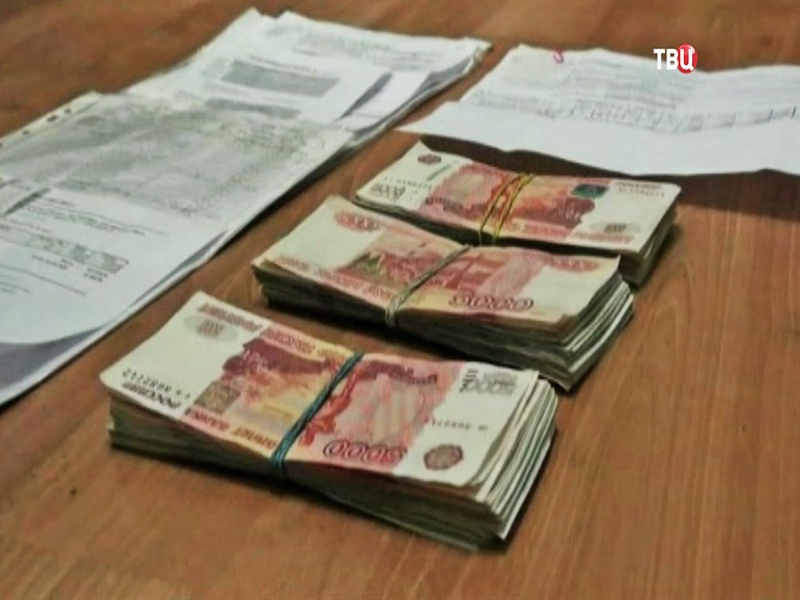cash: (98, 291, 560, 551), (250, 194, 635, 391), (355, 141, 683, 285)
